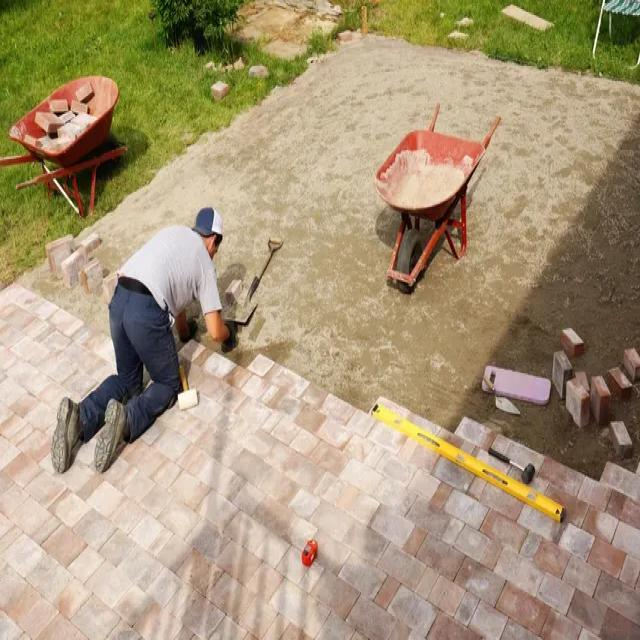brick: (566, 378, 590, 426), (590, 374, 612, 426), (46, 233, 76, 270), (62, 248, 89, 286), (553, 351, 574, 399), (610, 421, 633, 457), (608, 367, 632, 400), (561, 328, 585, 356), (621, 348, 640, 379), (35, 112, 64, 132), (103, 269, 119, 303), (80, 233, 102, 253), (76, 83, 95, 103), (226, 280, 243, 302), (50, 99, 69, 117), (574, 372, 590, 393), (71, 101, 89, 116)
plant: (146, 0, 242, 54)
